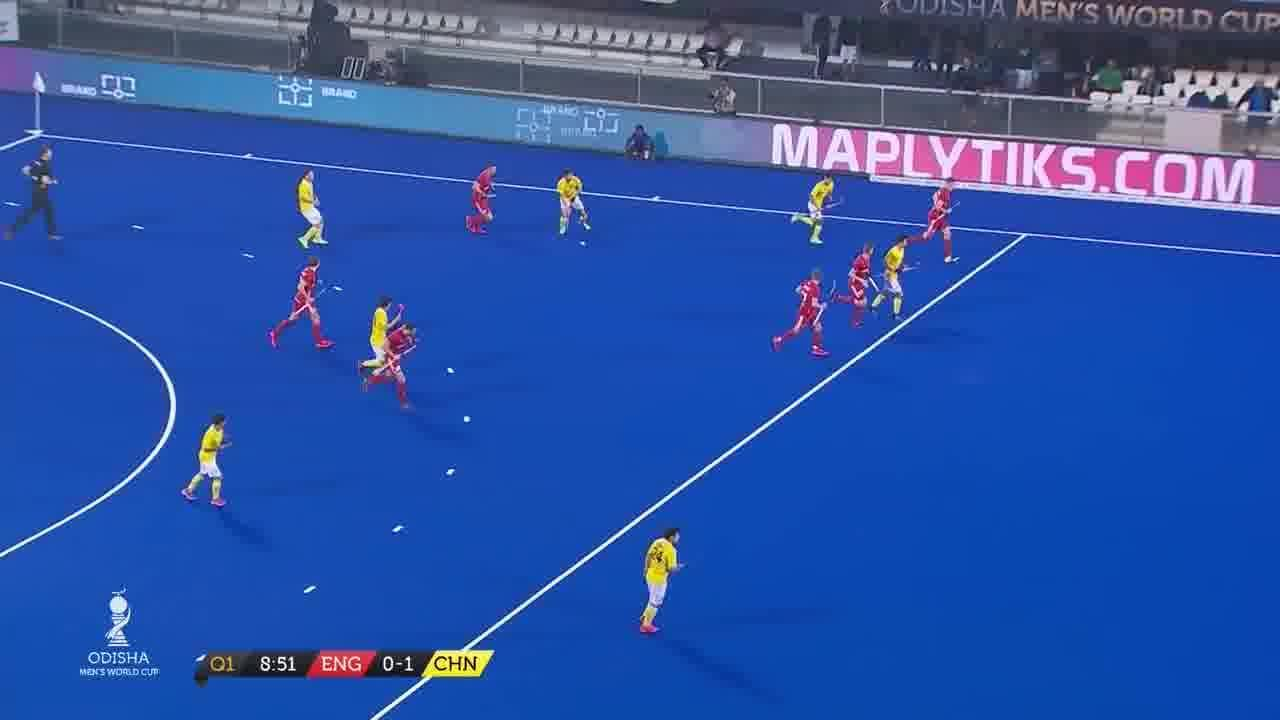ball: (576, 238, 589, 249)
